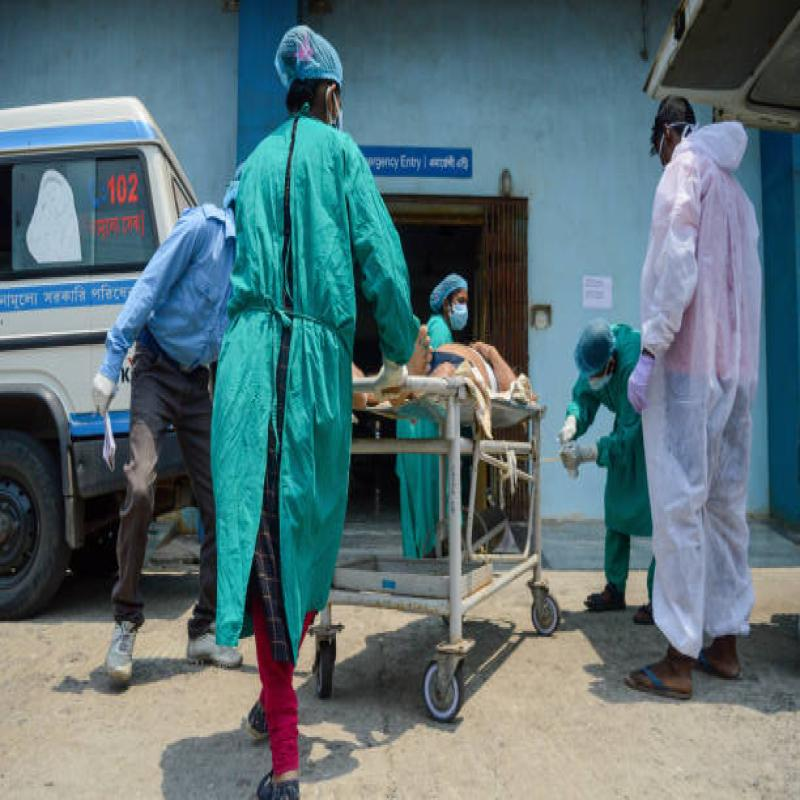ambulance: (0, 98, 124, 600)
